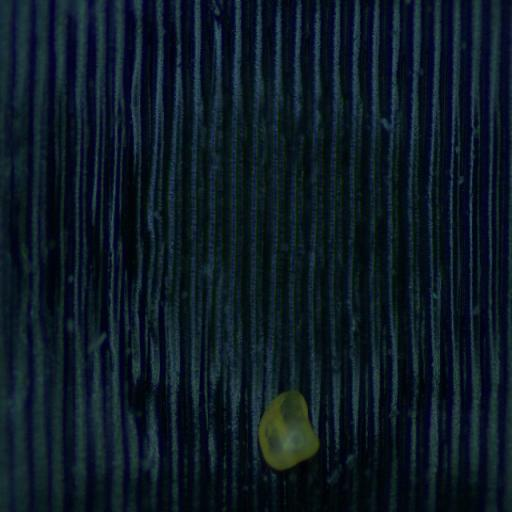mineral: (258, 390, 318, 469)
